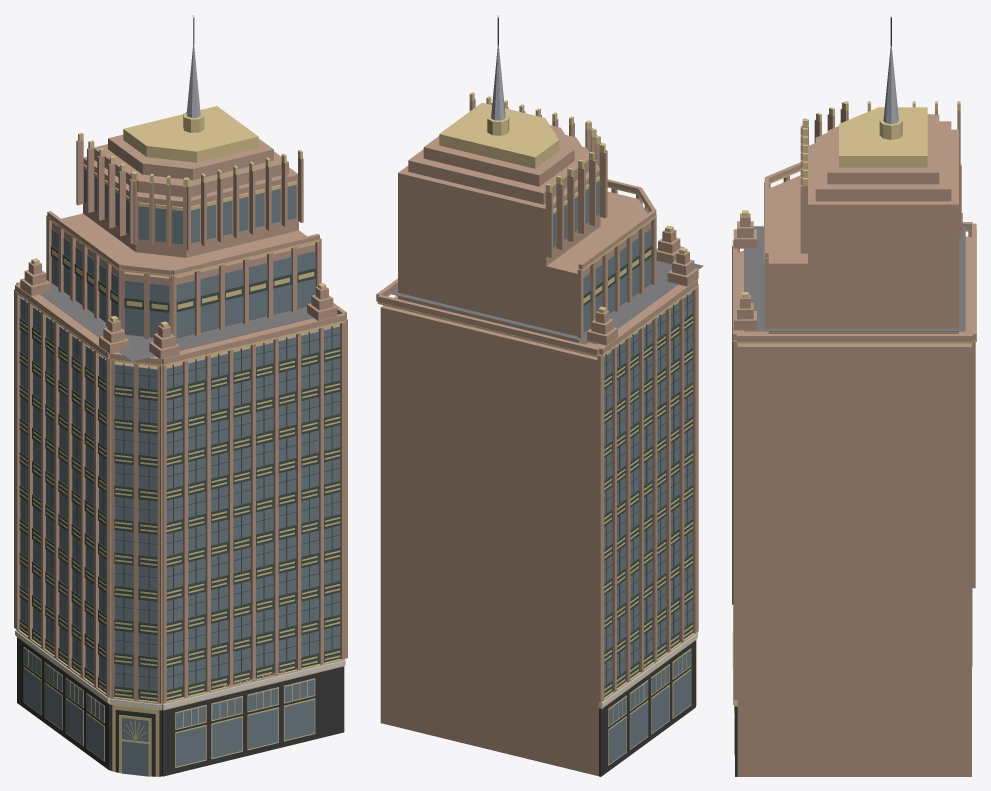
The model's file is corner_deco.glb.
3 views of the same model, side by side, from view 1: azimuth 30°, elevation 25°; view 2: azimuth 150°, elevation 25°; view 3: azimuth 270°, elevation 25° (orthographic). The views are drawn at different scales.
Visible parts, largest first — view 1: corner_deco; view 2: corner_deco; view 3: corner_deco.
Part boxes in pixels (x1,y1,x2,y2): corner_deco: (14,14,347,776); corner_deco: (376,14,703,776); corner_deco: (732,14,976,776).
Size of the model in its own units: 20.8 by 61.2 by 18.8.
